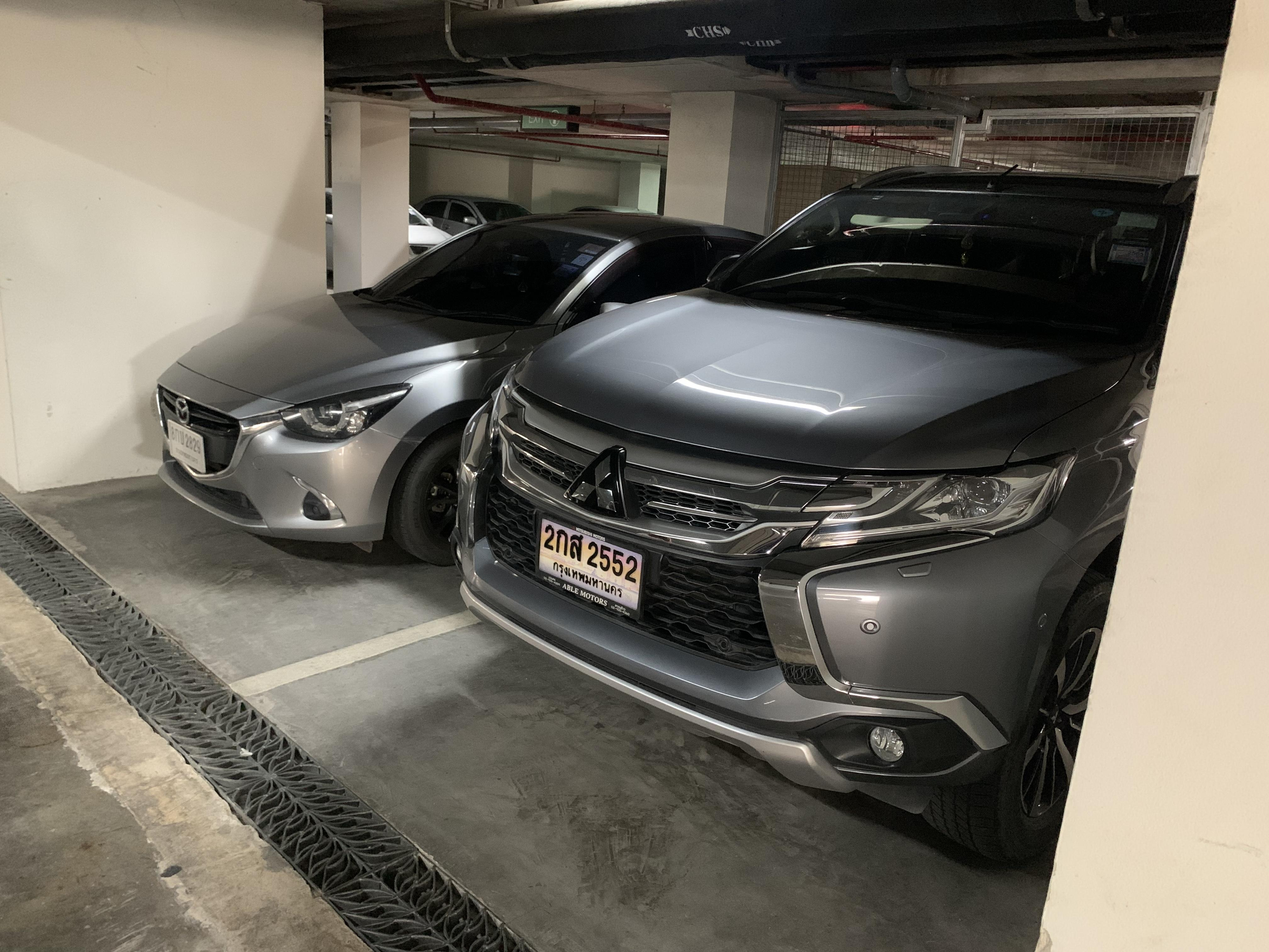license-plate: (536, 510, 644, 622), (164, 419, 209, 478)
